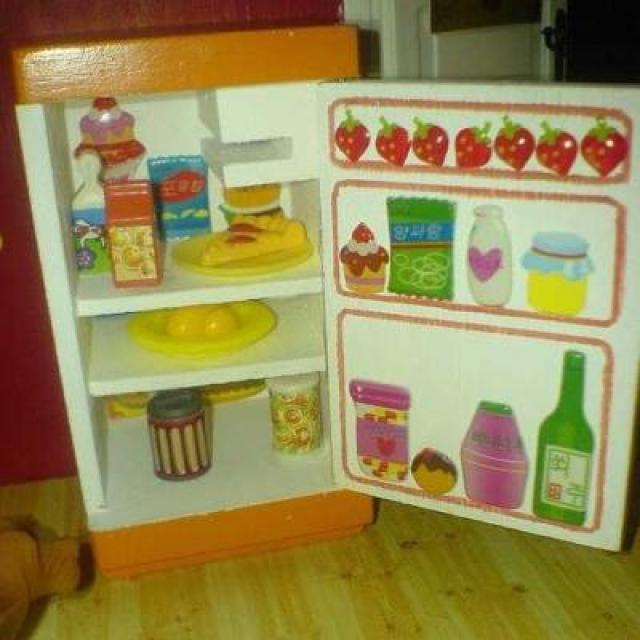refrigerator: (11, 8, 640, 610)
